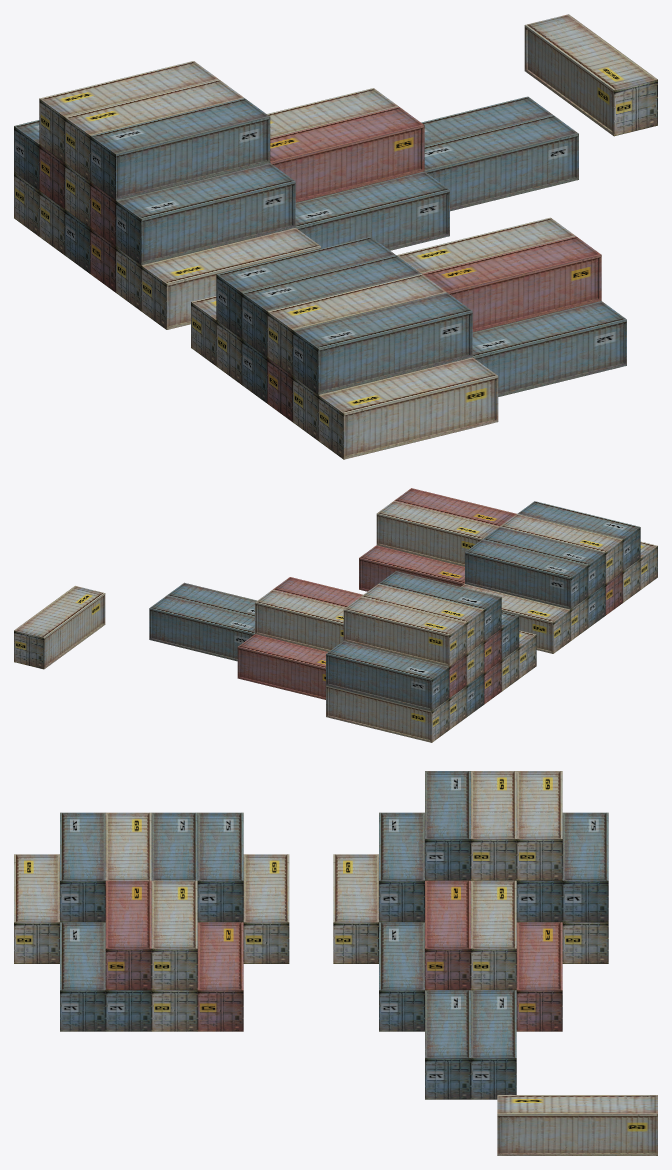
The model's file is sw_cont04.obj.
The picture shows the model from 3 angles, top to bottom: view 1: azimuth 30°, elevation 25°; view 2: azimuth 150°, elevation 25°; view 3: azimuth 270°, elevation 25°; orthographic projection. The views are drawn at different scales.
Visible parts, largest first — view 1: sw_cont04; view 2: sw_cont04; view 3: sw_cont04.
Part boxes in pixels (x1=…): sw_cont04: x1=14, y1=14, x2=657, y2=459; sw_cont04: x1=14, y1=488, x2=657, y2=742; sw_cont04: x1=14, y1=771, x2=657, y2=1155.
Size of the model in its own units: 52.8 by 12.36 by 56.11.
3 materials, 3 textured.
